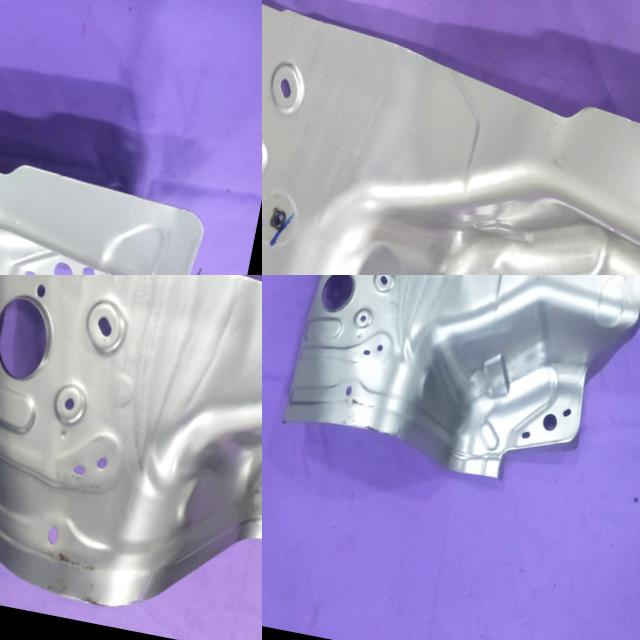Defect: (136, 562, 158, 606), (392, 415, 410, 444)
Healthy: (262, 0, 640, 275), (0, 44, 225, 275)
rust: (10, 540, 140, 613), (334, 414, 394, 440), (512, 275, 569, 293), (344, 391, 380, 413)
